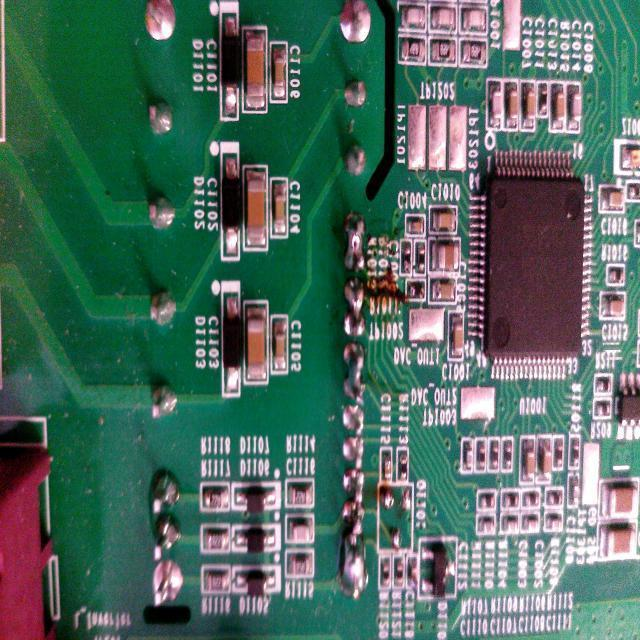Soldering shorted: (338, 526, 375, 606), (339, 338, 372, 403), (341, 272, 368, 341), (342, 202, 367, 272)
